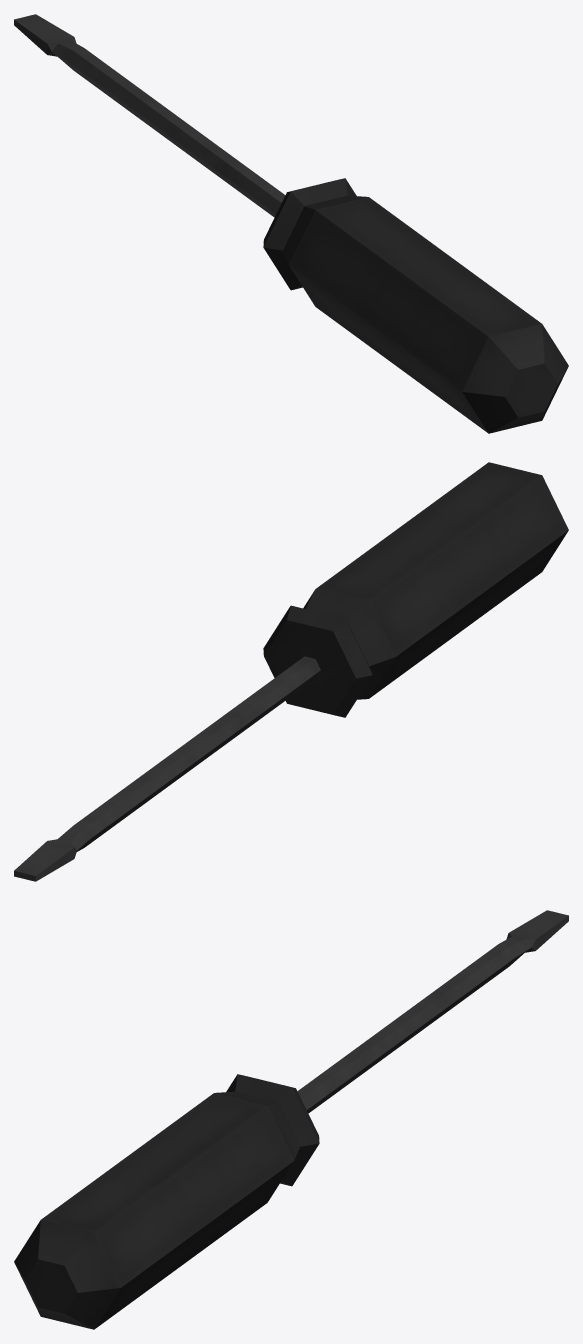
The model's file is screwdriver_mp_1_1.obj.
3 views of the same model, one above another, from view 1: azimuth 30°, elevation 25°; view 2: azimuth 150°, elevation 25°; view 3: azimuth 330°, elevation 25° (orthographic).
Parts seen in each view (by area): view 1: screwdriver_mp_1_1; view 2: screwdriver_mp_1_1; view 3: screwdriver_mp_1_1.
Boxes of the visible parts, x1=… form: screwdriver_mp_1_1: x1=14, y1=14, x2=568, y2=433; screwdriver_mp_1_1: x1=14, y1=462, x2=568, y2=881; screwdriver_mp_1_1: x1=14, y1=910, x2=568, y2=1329.
Bounding box in the file's own units: 1.26 × 1.09 × 10.1.
Materials: 1 (1 with a texture image).
